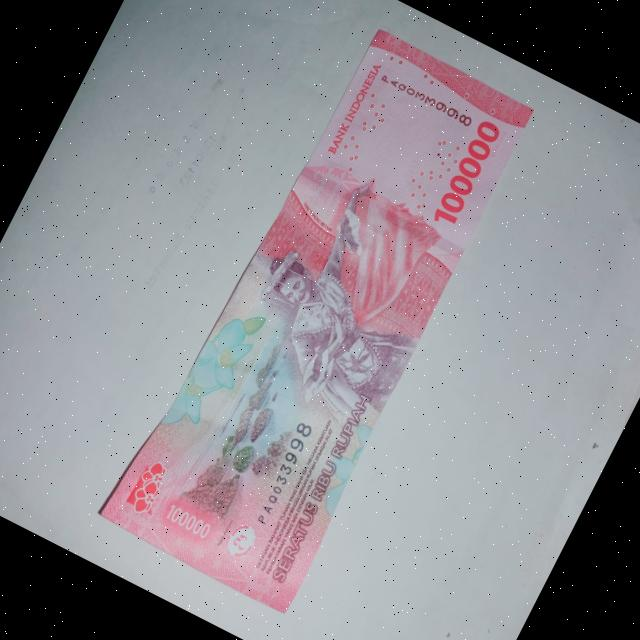100K: (90, 3, 556, 625)
